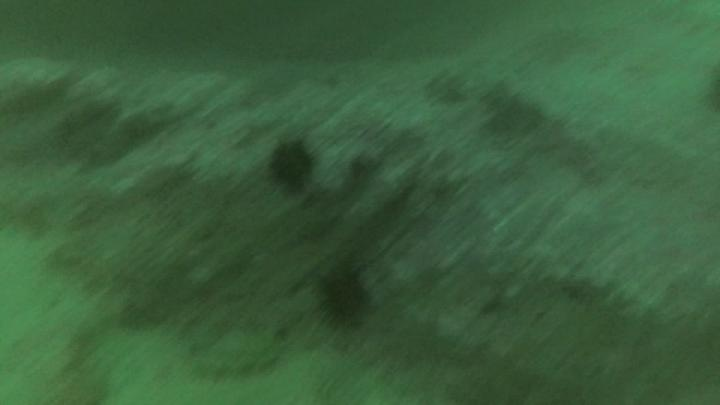echinus: (313, 259, 375, 331), (266, 136, 318, 194)
